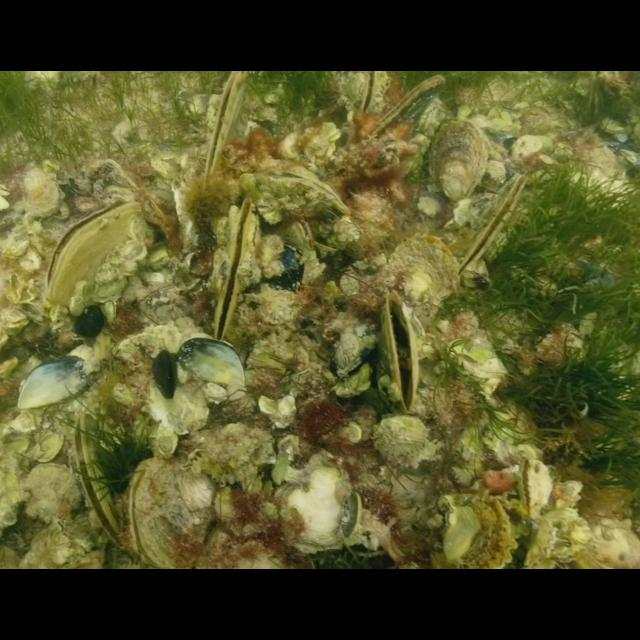Oyster-Closed: (125, 456, 212, 570), (383, 233, 463, 333), (425, 118, 491, 205), (368, 74, 449, 144)
Oyster-Open: (43, 196, 141, 306), (440, 494, 558, 570), (451, 172, 533, 280), (70, 413, 124, 551), (250, 163, 352, 229), (209, 196, 255, 342), (376, 285, 426, 419), (204, 70, 248, 180), (516, 458, 554, 518), (278, 218, 318, 256), (356, 72, 386, 122)
